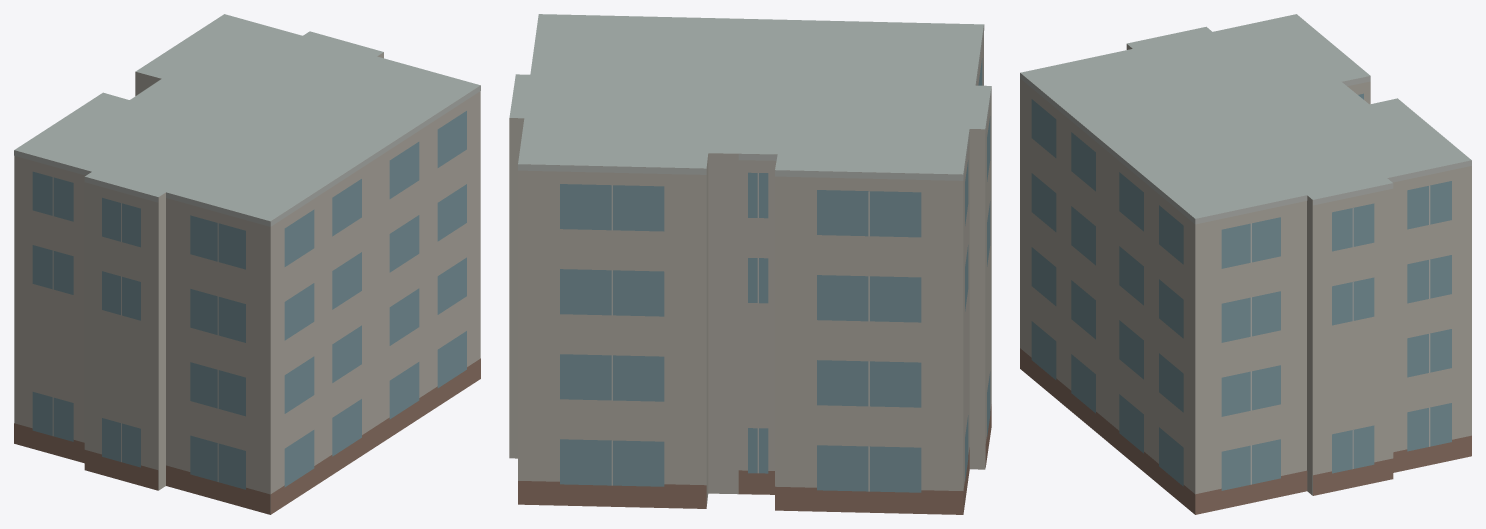
File: survey-upis-33043358.glb
The picture shows the model from 3 angles, left to right: view 1: azimuth 30°, elevation 25°; view 2: azimuth 150°, elevation 25°; view 3: azimuth 270°, elevation 25°; orthographic projection. The views are drawn at different scales.
Parts seen in each view (by area): view 1: survey-upis-33043358.tmp; view 2: survey-upis-33043358.tmp; view 3: survey-upis-33043358.tmp.
Boxes of the visible parts, x1,y1,x2,y2 form: survey-upis-33043358.tmp: [14, 14, 480, 514]; survey-upis-33043358.tmp: [509, 14, 991, 514]; survey-upis-33043358.tmp: [1020, 14, 1471, 514].
Bounding box in the file's own units: 19.16 × 12.9 × 17.85.
